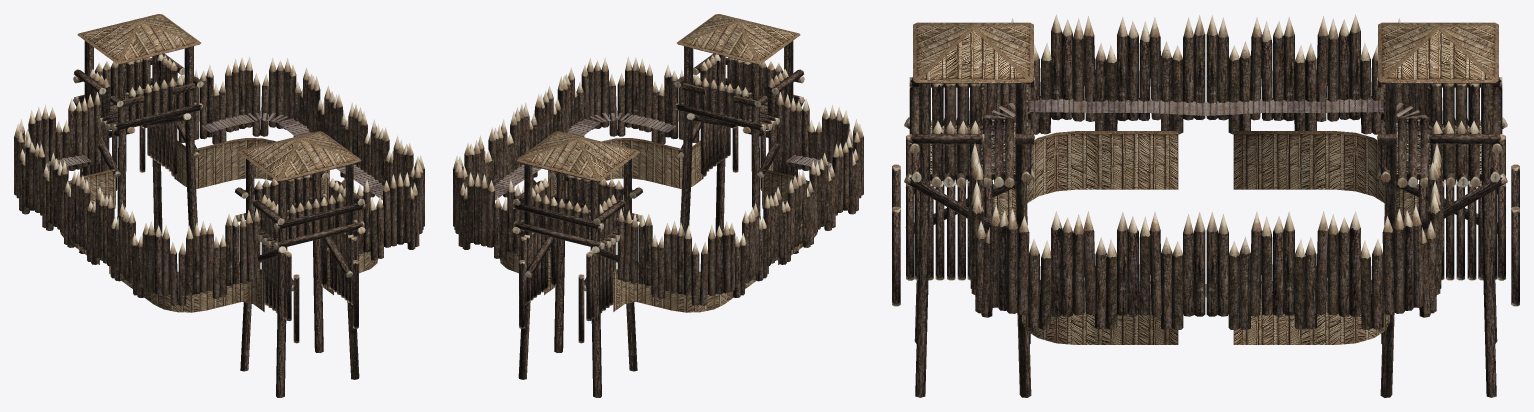
File: rome_camp_palisade.dae
3 renders of one model, left to right at view 1: azimuth 30°, elevation 25°; view 2: azimuth 150°, elevation 25°; view 3: azimuth 270°, elevation 25°, orthographic. The views are drawn at different scales.
Visible parts, largest first — view 1: rome_sb_palisade; view 2: rome_sb_palisade; view 3: rome_sb_palisade.
Part boxes in pixels (bbox=[...]): rome_sb_palisade: bbox=[14, 14, 424, 397]; rome_sb_palisade: bbox=[453, 14, 863, 397]; rome_sb_palisade: bbox=[892, 14, 1519, 397].
Bounding box in the file's own units: 29.64 × 23.32 × 38.95.
